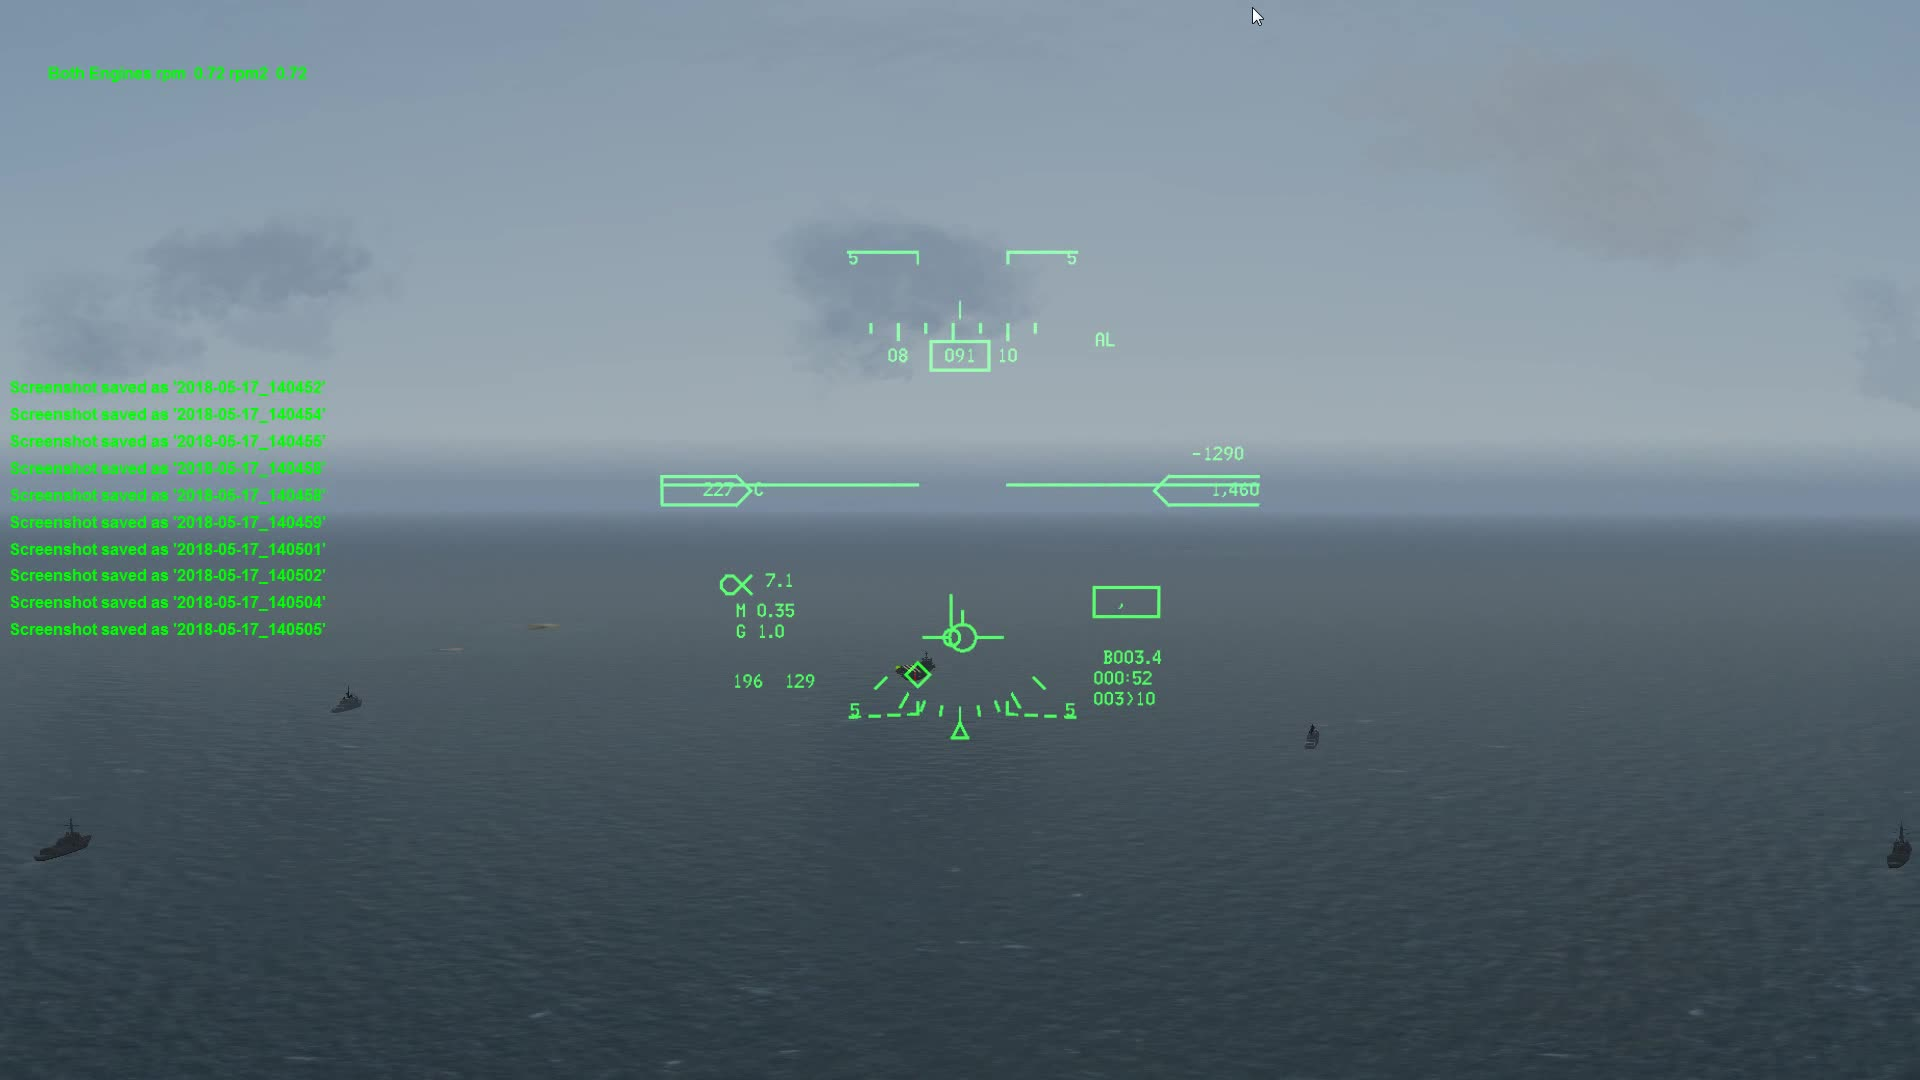speed vector: (914, 583, 1014, 655)
